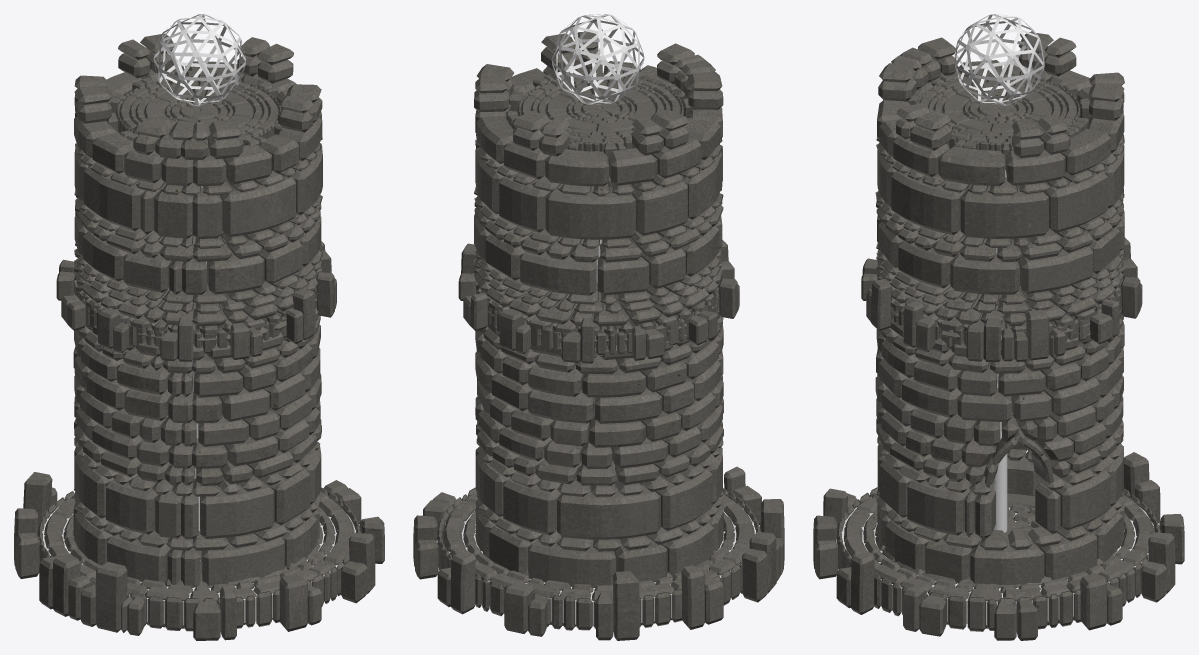
File: tower 1.fbx
3 views of the same model, side by side, from view 1: azimuth 30°, elevation 25°; view 2: azimuth 150°, elevation 25°; view 3: azimuth 270°, elevation 25° (orthographic).
Parts seen in each view (by area): view 1: Wall.018, Wall.017, Wall.012, Wall.013, Wall.002, Icosphere, Circle.001; view 2: Wall.018, Wall.017, Wall.012, Wall.013, Wall.002, Icosphere, Circle.001; view 3: Wall.018, Wall.017, Wall.012, Wall.013, Wall.002, Icosphere, Cylinder, Circle.001.
Boxes of the visible parts, x1=… form: Wall.018: x1=74, y1=33, x2=322, y2=360; Wall.017: x1=73, y1=315, x2=321, y2=587; Wall.012: x1=14, y1=472, x2=384, y2=640; Wall.013: x1=56, y1=241, x2=336, y2=361; Wall.002: x1=107, y1=70, x2=285, y2=152; Icosphere: x1=153, y1=14, x2=245, y2=106; Circle.001: x1=42, y1=506, x2=356, y2=625; Wall.018: x1=474, y1=31, x2=723, y2=359; Wall.017: x1=475, y1=316, x2=723, y2=587; Wall.012: x1=413, y1=466, x2=784, y2=640; Wall.013: x1=458, y1=240, x2=739, y2=363; Wall.002: x1=506, y1=69, x2=692, y2=176; Icosphere: x1=552, y1=14, x2=644, y2=104; Circle.001: x1=445, y1=508, x2=755, y2=624; Wall.018: x1=875, y1=32, x2=1125, y2=358; Wall.017: x1=875, y1=315, x2=1124, y2=585; Wall.012: x1=813, y1=452, x2=1184, y2=640; Wall.013: x1=861, y1=237, x2=1142, y2=362; Wall.002: x1=907, y1=69, x2=1090, y2=169; Icosphere: x1=954, y1=14, x2=1044, y2=105; Cylinder: x1=991, y1=170, x2=1007, y2=532; Circle.001: x1=841, y1=497, x2=1154, y2=624.
Size of the model in its own units: 2196 by 3569 by 2196.
